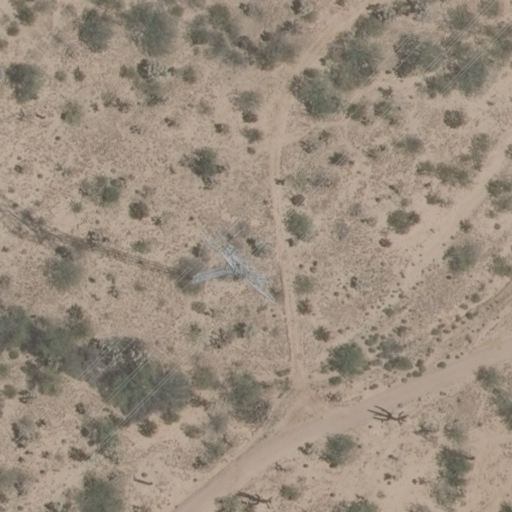TT: (189, 228, 272, 297)
